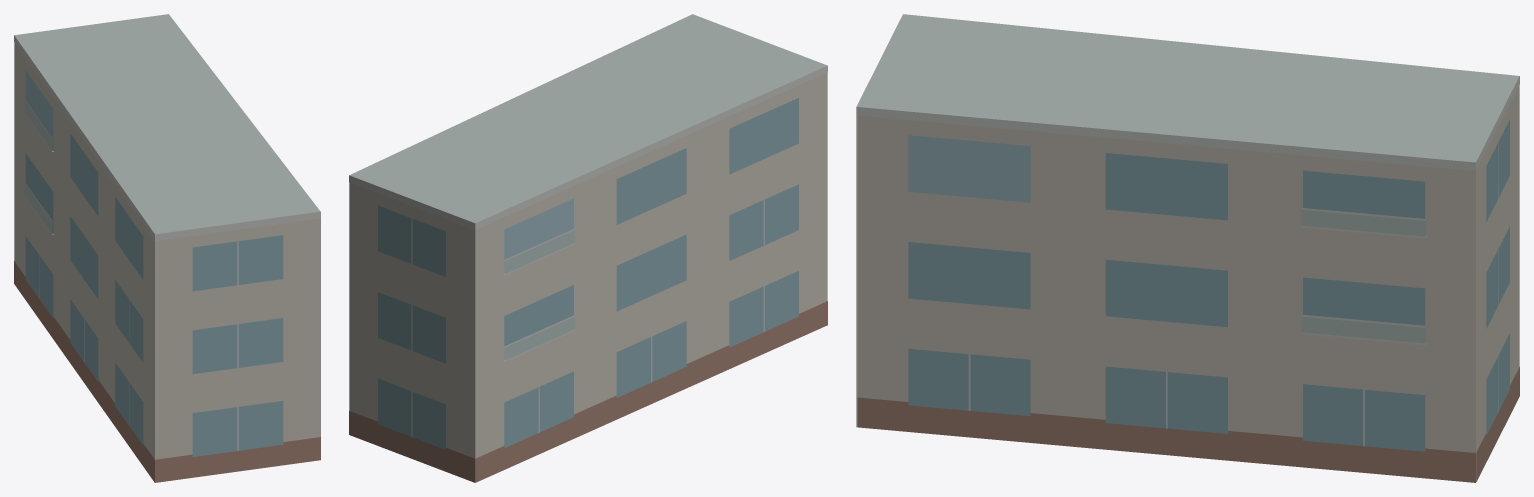
The model's file is survey-upis-32903146.glb.
3 renders of one model, left to right at view 1: azimuth 30°, elevation 25°; view 2: azimuth 150°, elevation 25°; view 3: azimuth 270°, elevation 25°, orthographic. The views are drawn at different scales.
Visible parts, largest first — view 1: survey-upis-32903146.tmp; view 2: survey-upis-32903146.tmp; view 3: survey-upis-32903146.tmp.
Boxes of the visible parts, bbox=[...] form: survey-upis-32903146.tmp: bbox=[14, 14, 320, 482]; survey-upis-32903146.tmp: bbox=[349, 14, 827, 482]; survey-upis-32903146.tmp: bbox=[856, 14, 1519, 482].
Bounding box in the file's own units: 9.11 × 9.15 × 17.18.
